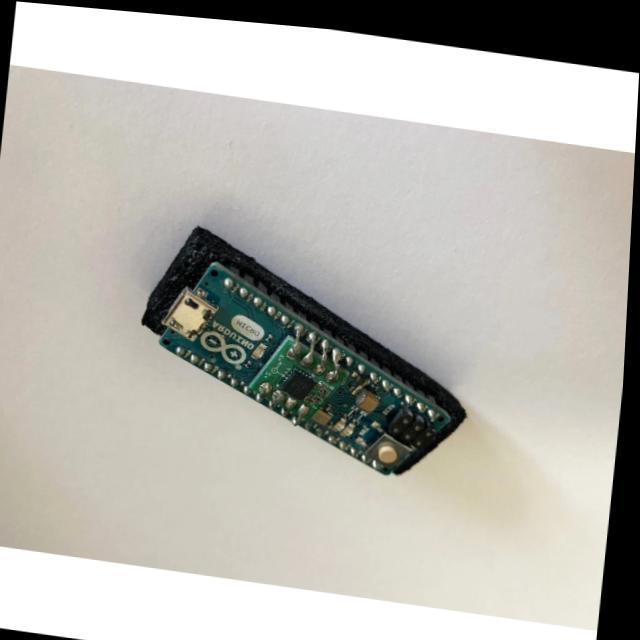Arduino-Micro: (161, 263, 455, 474)
